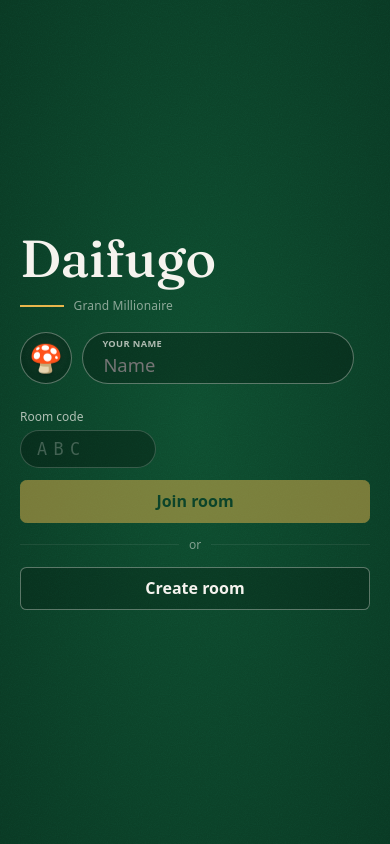
Test: Lobby › reads a mid-round joiner's readiness off pendingJoins (§7.7, §8.6)
Type "Will" into the field labelled "Your name".
click(218, 358); type("Will")  # box [82, 332, 354, 384]
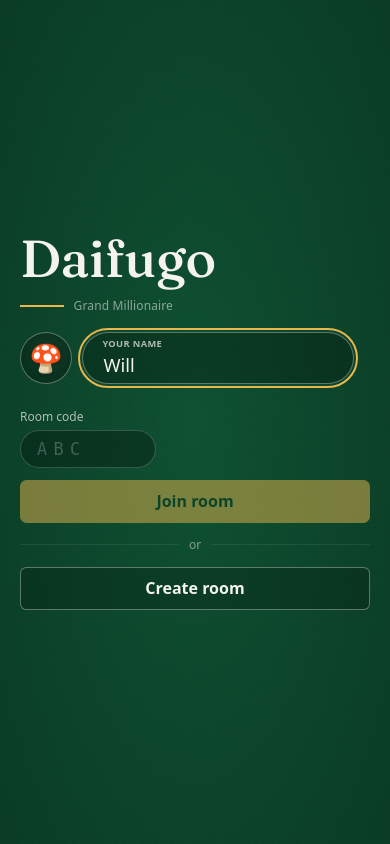
Type "ABC234" into the field labelled "Room code".
click(88, 449); type("ABC234")  # box [20, 430, 156, 468]
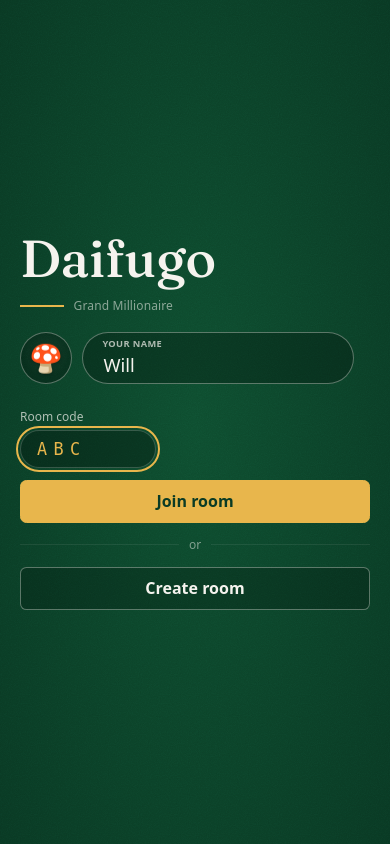
Click the button "Join room".
click(195, 501)  # box [20, 480, 370, 523]
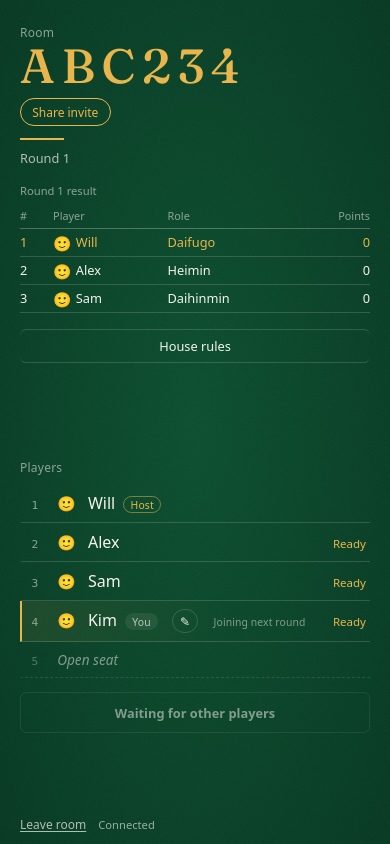
Now the button "Waiting for other players" is disabled, box [20, 692, 370, 733]
